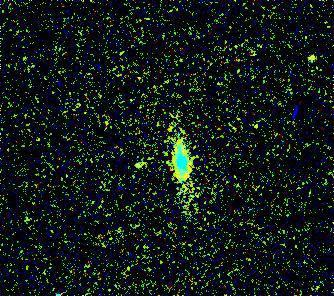star: (300, 42, 330, 72)
